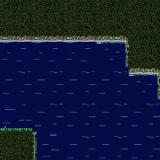Interaction: (0, 24, 143, 56), (120, 57, 160, 82)
Slow: (0, 43, 124, 125), (37, 125, 160, 160), (124, 77, 157, 125)
